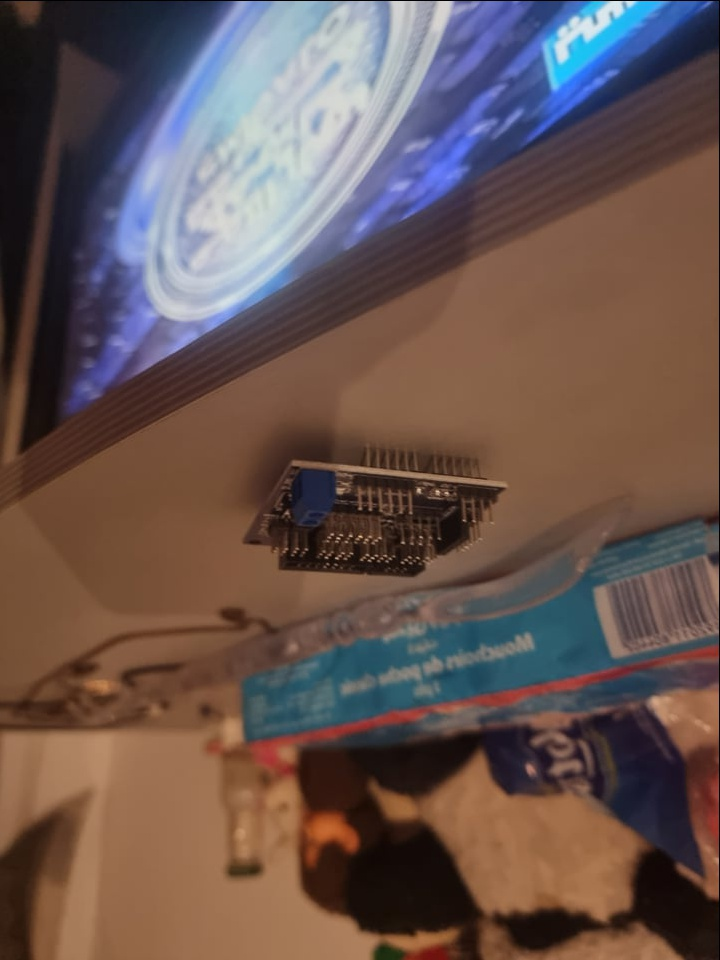5V EXPANSION: (243, 455, 511, 580)
